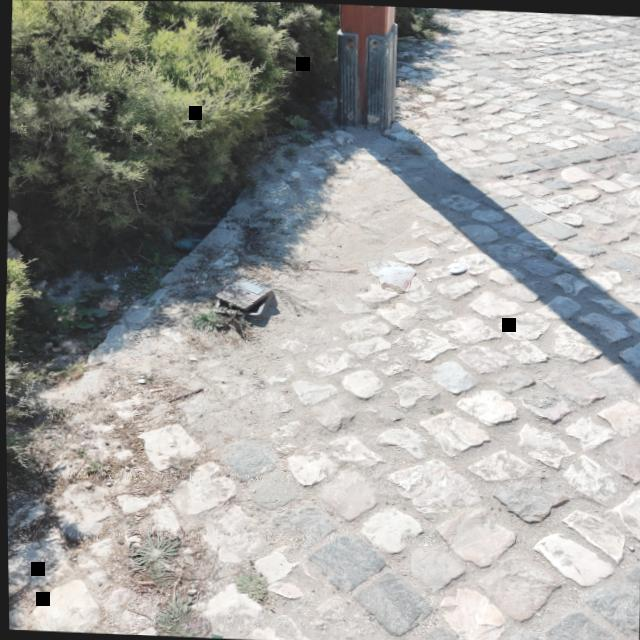Broken glass: (207, 632, 221, 638)
Cigarette: (147, 386, 160, 391), (341, 266, 355, 270)
Disposable plastic cup: (363, 257, 414, 289)
Unlabeled litter: (532, 207, 570, 226), (445, 261, 463, 272)
